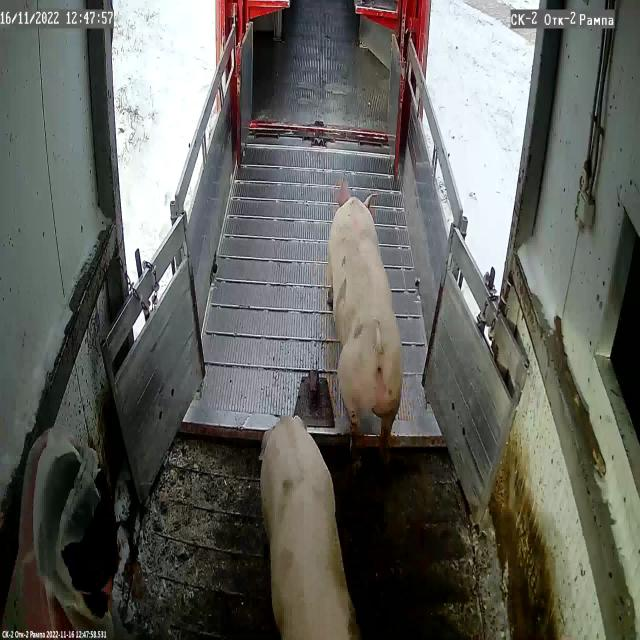pig: (259, 417, 359, 640), (329, 181, 402, 435)
